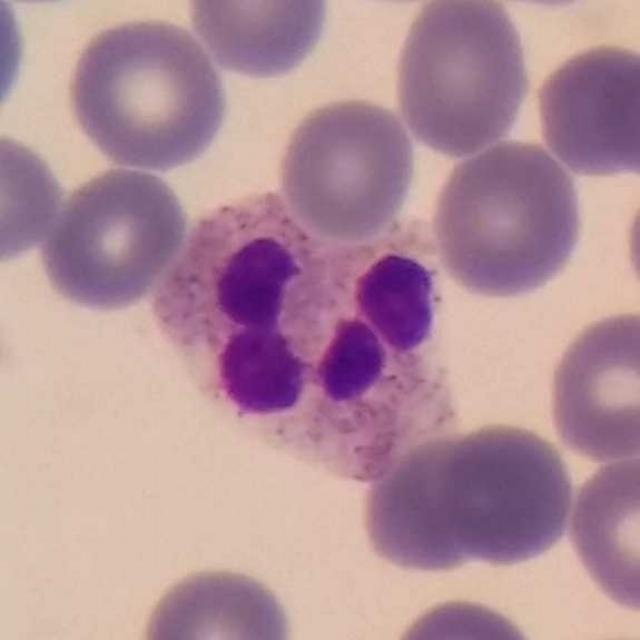Neutrophil: (132, 181, 481, 500)
RBC: (61, 11, 232, 173), (427, 137, 589, 303), (355, 426, 508, 579), (38, 162, 191, 315), (429, 417, 578, 570), (390, 0, 534, 158), (272, 92, 420, 242), (542, 304, 640, 464), (530, 38, 640, 180), (132, 560, 300, 640), (563, 447, 640, 618), (181, 0, 334, 83), (0, 128, 67, 267), (384, 592, 545, 640), (0, 1, 31, 130)
